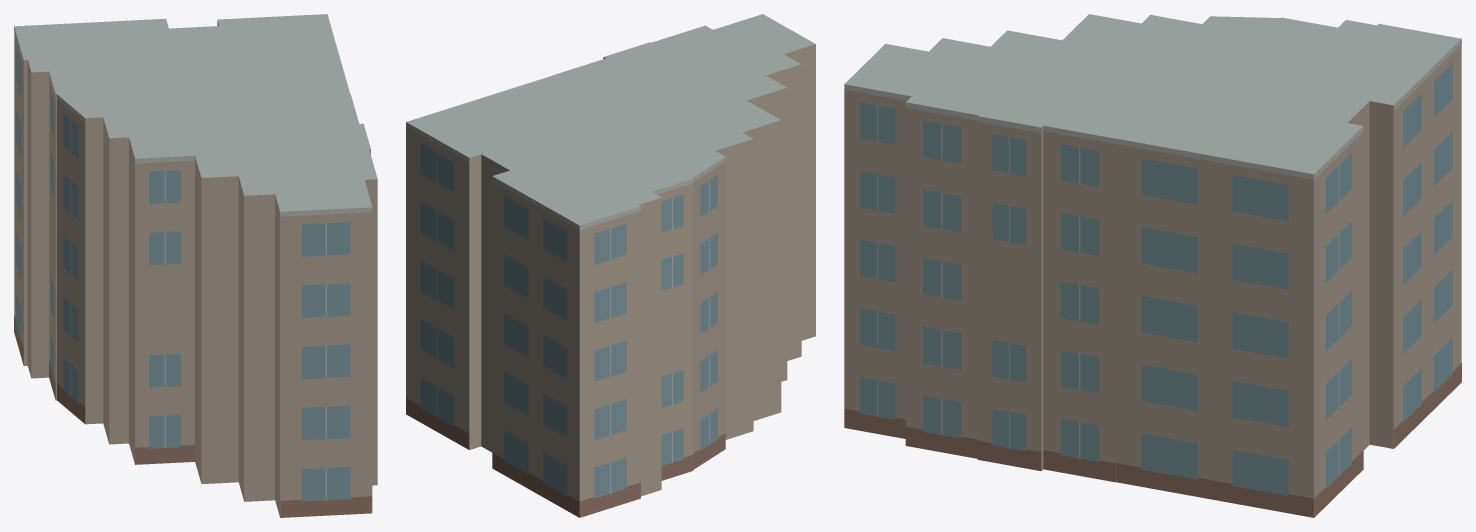
The model's file is survey-upis-32668967.glb.
The picture shows the model from 3 angles, left to right: view 1: azimuth 30°, elevation 25°; view 2: azimuth 150°, elevation 25°; view 3: azimuth 270°, elevation 25°; orthographic projection. The views are drawn at different scales.
Parts seen in each view (by area): view 1: survey-upis-32668967.tmp; view 2: survey-upis-32668967.tmp; view 3: survey-upis-32668967.tmp.
Part boxes in pixels (<box>): survey-upis-32668967.tmp: <box>14,14,377,517</box>; survey-upis-32668967.tmp: <box>406,14,815,517</box>; survey-upis-32668967.tmp: <box>844,14,1461,517</box>.
Size of the model in its own units: 15.32 by 15.3 by 24.93.
